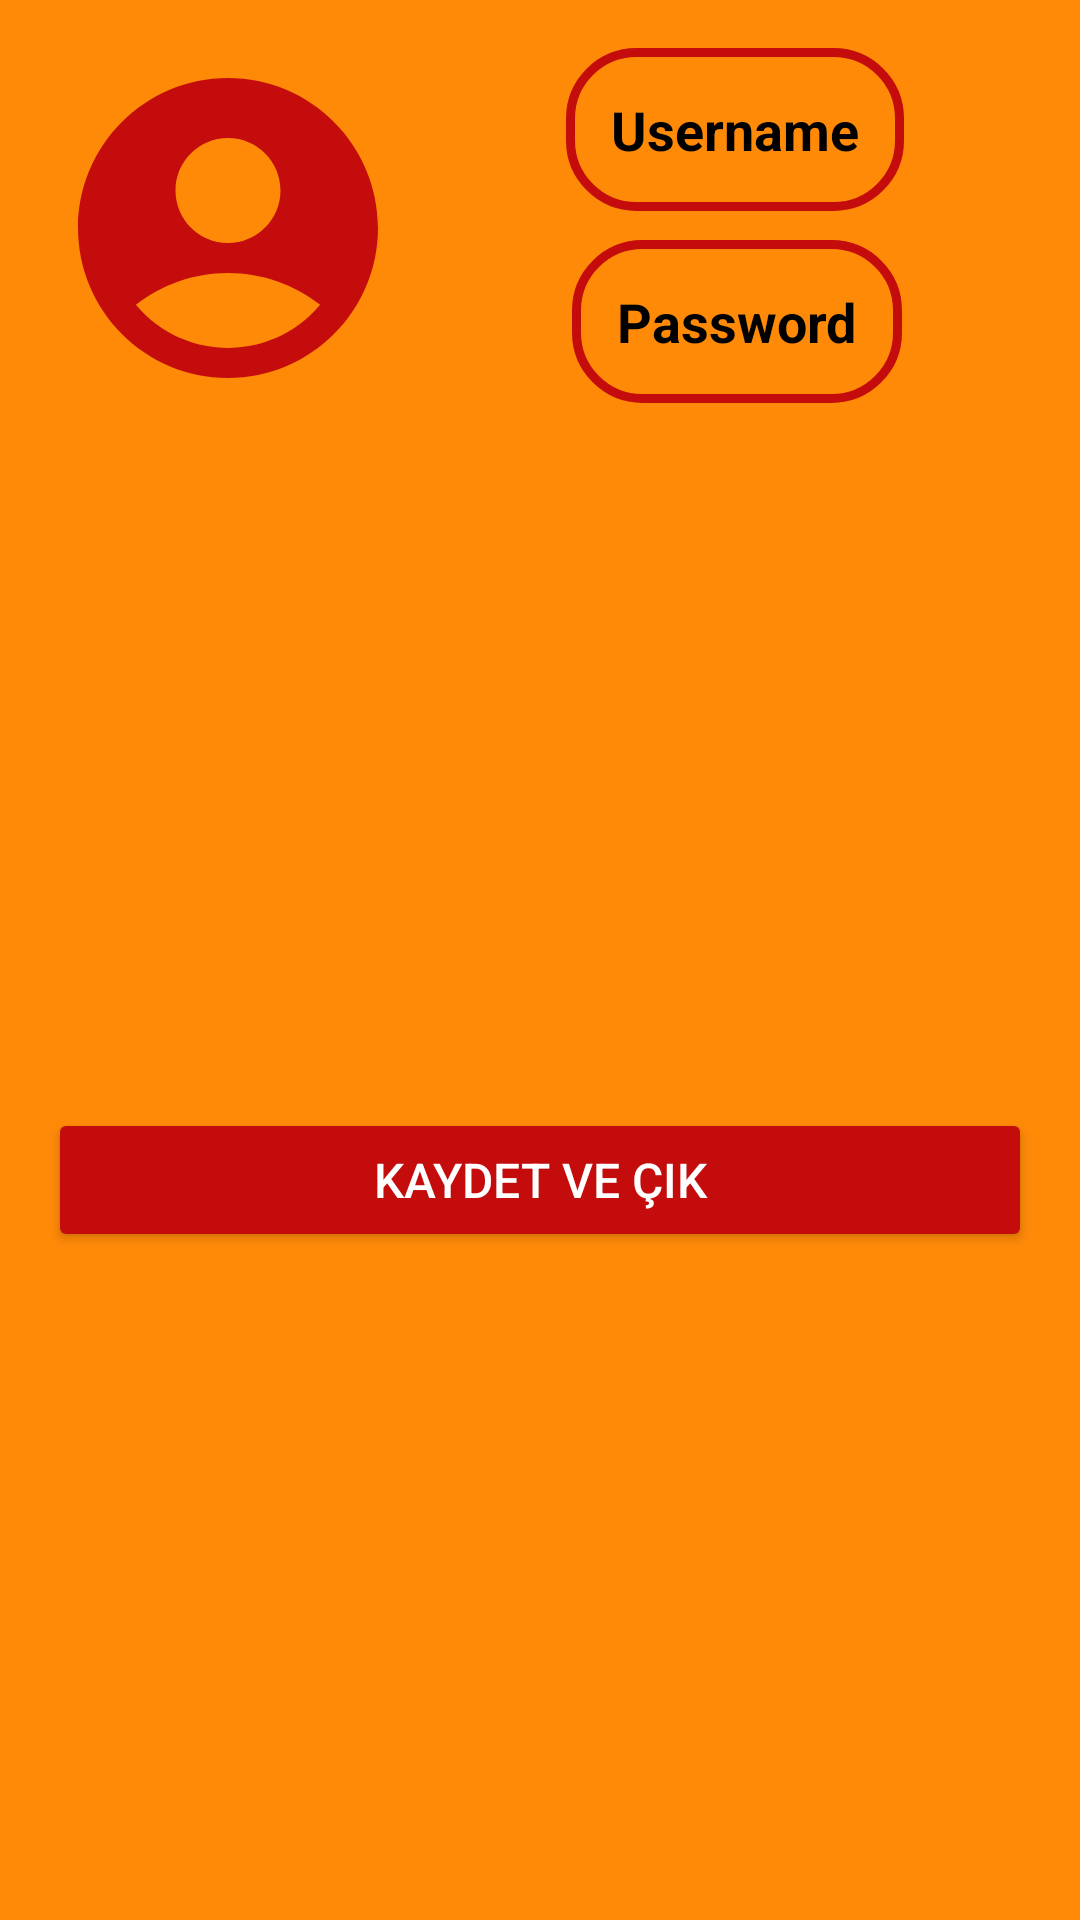

Icon click points for this 1080px×1920px phone screenshot, format [x,y]:
profile: [228,228]
